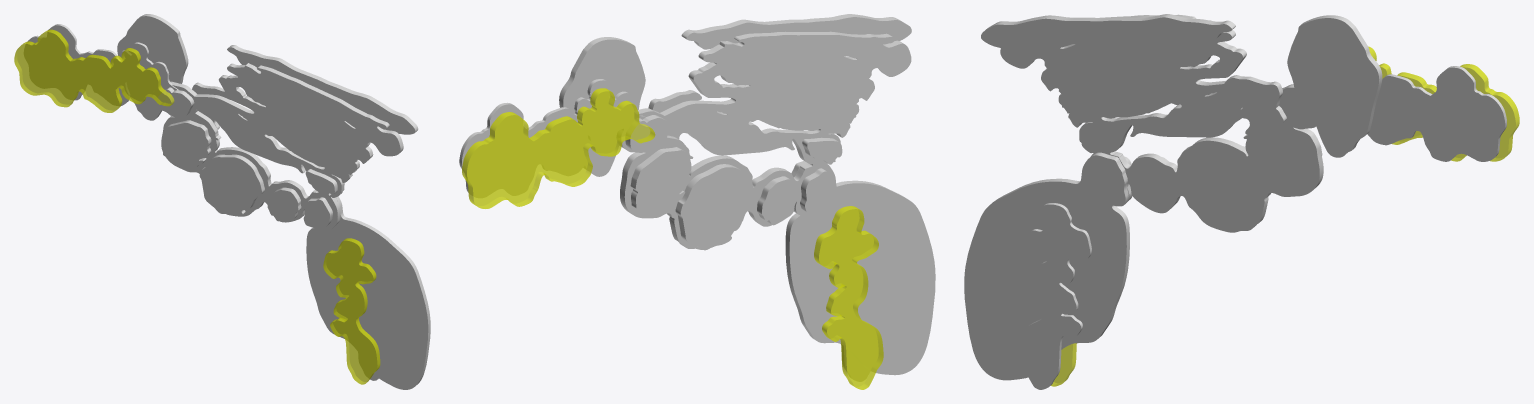
The picture shows the model from 3 angles, left to right: view 1: azimuth 90°, elevation 25°; view 2: azimuth 150°, elevation 25°; view 3: azimuth 270°, elevation 25°; orthographic projection. The views are drawn at different scales.
Visible parts, largest first — view 1: Cap 1 13, Cap 1 3, Cap 1 14, Cap 1, Cap 2 14, Cap 1 15, Cap 2 15, Cap 1 5, Cap 1 10, Path 1 2, Cap 1 17, Cap 1 11 (+9 smaller); view 2: Cap 1 13, Cap 1 3, Cap 1 14, Cap 1, Cap 2 14, Cap 1 15, Cap 2 15, Cap 1 5, Cap 1 10, Path 1 2, Cap 1 17, Cap 1 11 (+14 smaller); view 3: Cap 2 13, Cap 2 3, Cap 2 5, Cap 2, Cap 2 2, Cap 2 17, Path 1 2, Cap 2 4, Cap 1 14, Cap 2 14, Path 13 2, Path 21.001 (+6 smaller).
Part boxes in pixels (x1=…): Cap 1 13: x1=161, y1=65, x2=400, y2=230; Cap 1 3: x1=306, y1=215, x2=428, y2=389; Cap 1 14: x1=14, y1=32, x2=171, y2=112; Cap 1: x1=24, y1=25, x2=176, y2=105; Cap 2 14: x1=17, y1=30, x2=164, y2=110; Cap 1 15: x1=323, y1=240, x2=377, y2=384; Cap 2 15: x1=326, y1=238, x2=379, y2=381; Cap 1 5: x1=117, y1=16, x2=185, y2=120; Cap 1 10: x1=199, y1=157, x2=261, y2=216; Path 1 2: x1=169, y1=63, x2=403, y2=229; Cap 1 17: x1=227, y1=47, x2=415, y2=134; Cap 1 11: x1=162, y1=123, x2=208, y2=168; Cap 1 13: x1=624, y1=35, x2=911, y2=249; Cap 1 3: x1=789, y1=167, x2=935, y2=375; Cap 1 14: x1=467, y1=91, x2=655, y2=208; Cap 1: x1=462, y1=80, x2=645, y2=197; Cap 2 14: x1=462, y1=88, x2=638, y2=205; Cap 1 15: x1=819, y1=209, x2=883, y2=389; Cap 2 15: x1=814, y1=206, x2=878, y2=386; Cap 1 5: x1=563, y1=39, x2=645, y2=176; Cap 1 10: x1=680, y1=167, x2=754, y2=250; Path 1 2: x1=620, y1=31, x2=903, y2=247; Cap 1 17: x1=686, y1=17, x2=911, y2=49; Cap 1 11: x1=635, y1=150, x2=690, y2=212; Cap 2 13: x1=1000, y1=33, x2=1319, y2=232; Cap 2 3: x1=964, y1=155, x2=1126, y2=380; Cap 2 5: x1=1287, y1=18, x2=1379, y2=157; Cap 2: x1=1367, y1=67, x2=1505, y2=161; Cap 2 2: x1=1017, y1=204, x2=1089, y2=389; Cap 2 17: x1=981, y1=17, x2=1231, y2=52; Path 1 2: x1=1029, y1=14, x2=1323, y2=226; Cap 2 4: x1=1224, y1=78, x2=1283, y2=134; Cap 1 14: x1=1369, y1=47, x2=1519, y2=157; Cap 2 14: x1=1380, y1=67, x2=1515, y2=161; Path 13 2: x1=1368, y1=46, x2=1519, y2=161; Path 21.001: x1=991, y1=152, x2=1129, y2=338.
Size of the model in its own units: 16.95 by 31.9 by 37.42.
